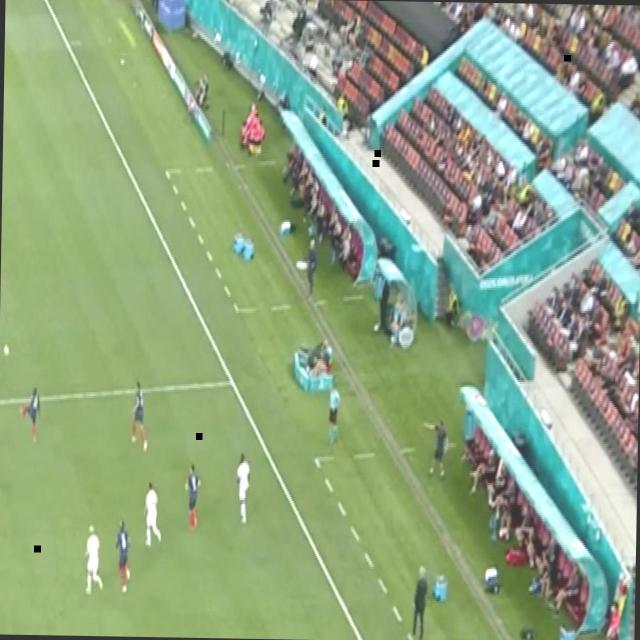ball: (1, 343, 11, 359)
player-white: (79, 518, 107, 598), (112, 513, 134, 599), (18, 378, 44, 448), (129, 376, 151, 455), (140, 479, 164, 551), (182, 459, 204, 533), (233, 448, 253, 526), (325, 374, 343, 450)
